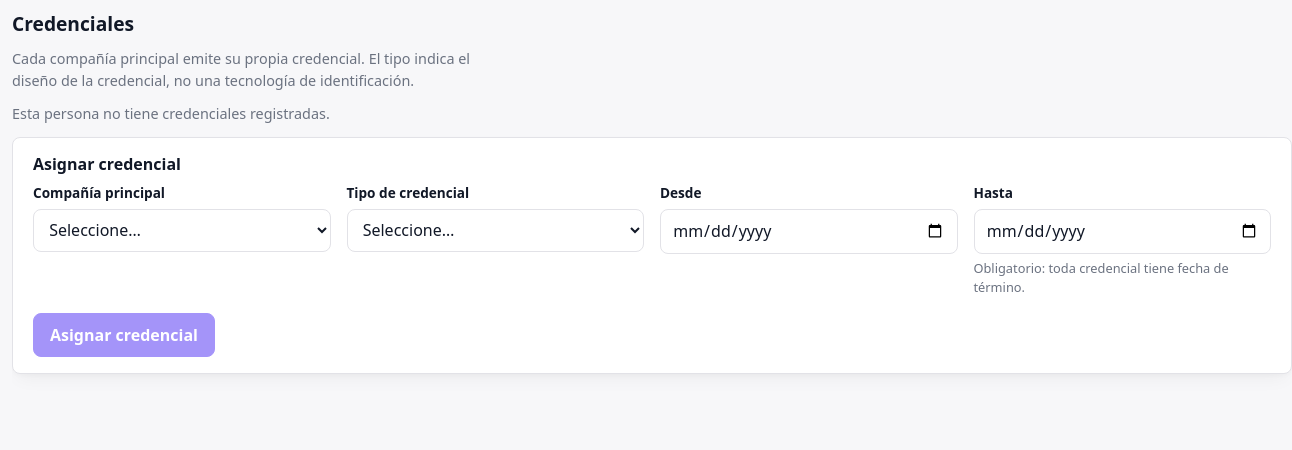
Test case: CredencialesPersona › explica el rechazo por solapamiento con otra credencial de la misma principal
This screenshot has width=1292, height=450.
Step 1. Select "Minera Norte" in the dropdown labelled "Compañía principal" → (182, 230), box [33, 209, 330, 252]
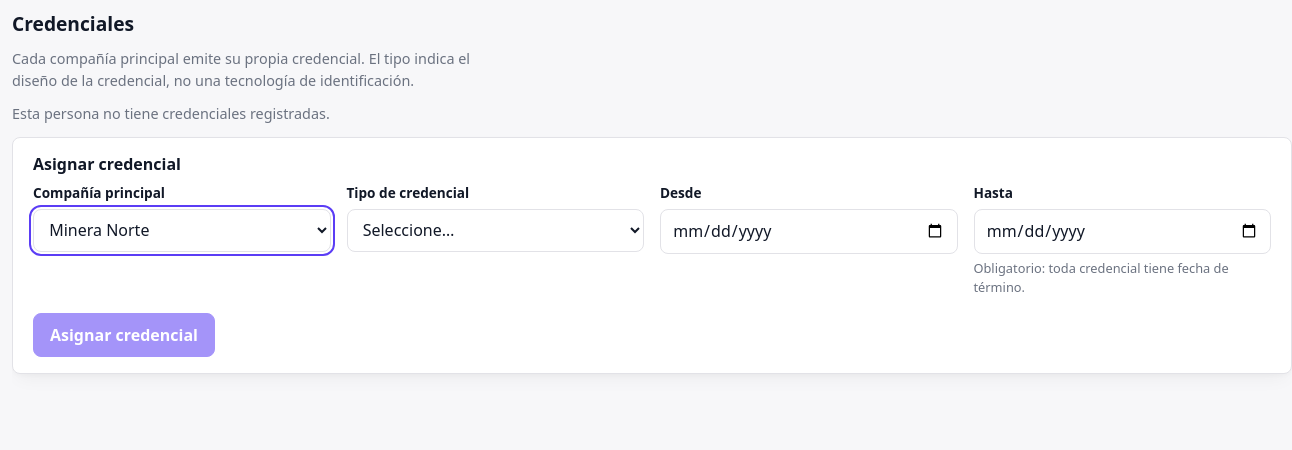
Step 2. Select "Credencial Contratista" in the dropdown labelled "Tipo de credencial" → (495, 230), box [346, 209, 644, 252]
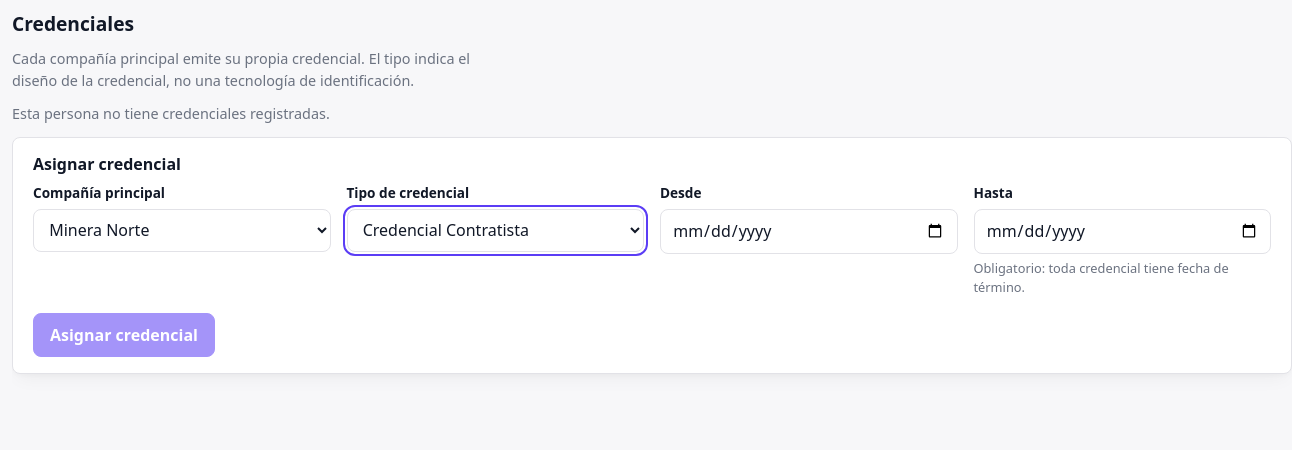
Step 3. Type "2026-09-16" into the date field labelled "Desde" → (809, 231), box [660, 209, 958, 254]
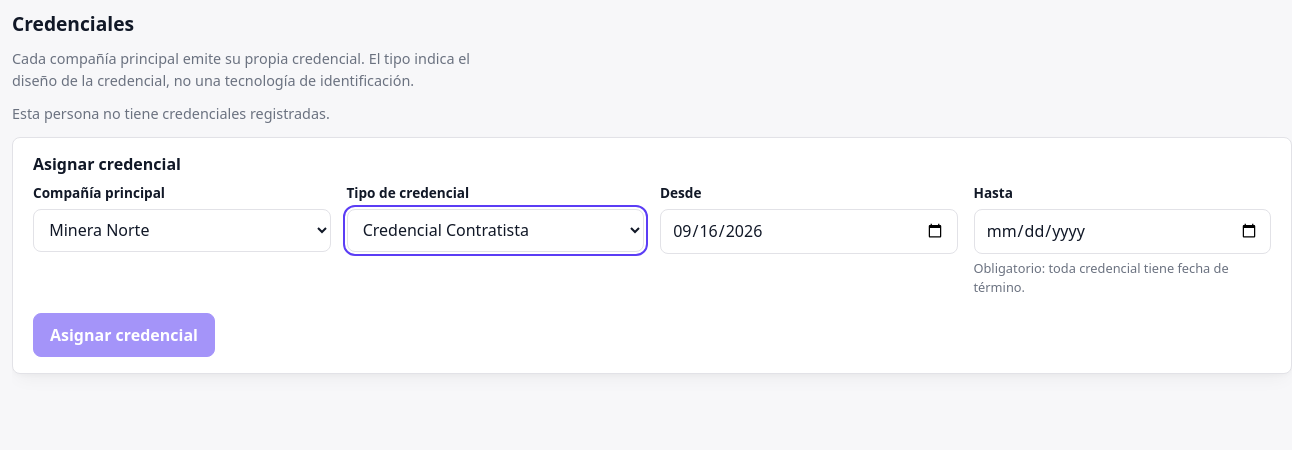
Step 4. Type "2027-09-15" into the date field labelled "Hasta" → (1122, 231), box [974, 209, 1271, 254]
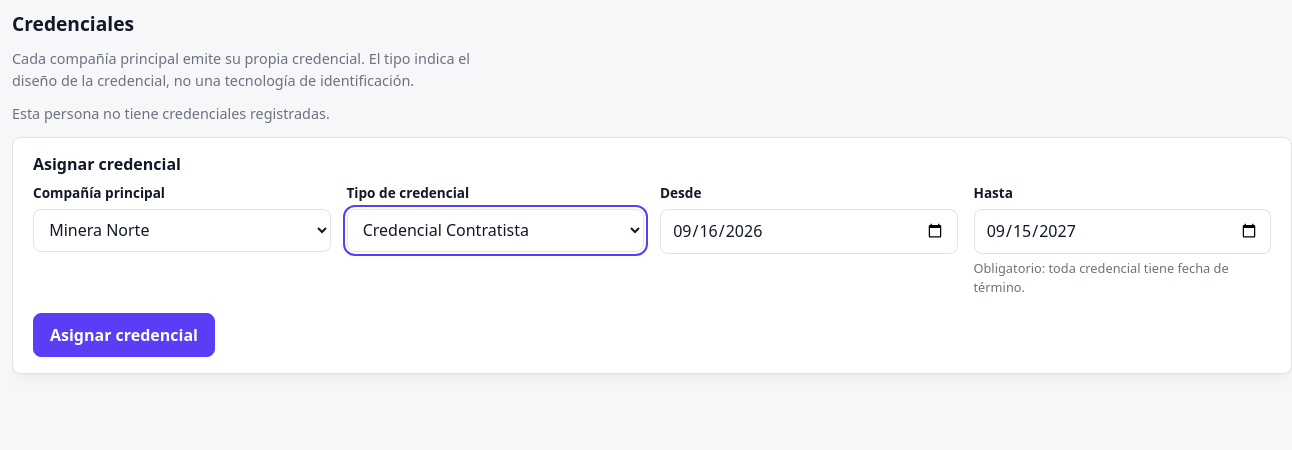
Step 5. Click the button "Asignar credencial" → (124, 335), box [33, 313, 215, 357]
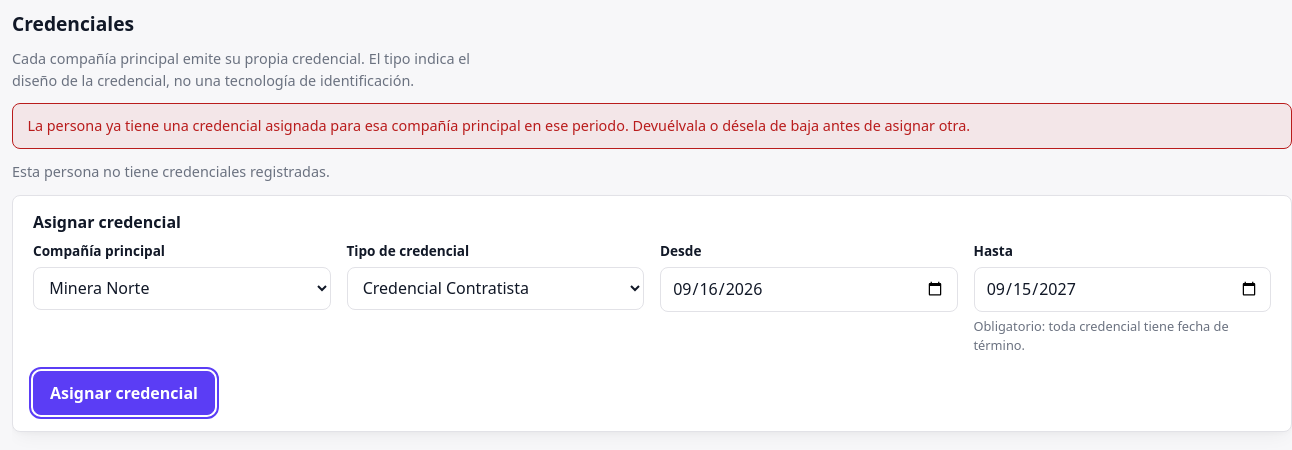
expect the message shows "ya tiene una credencial asignada para esa compañía principal": met, box [27, 116, 970, 135]
